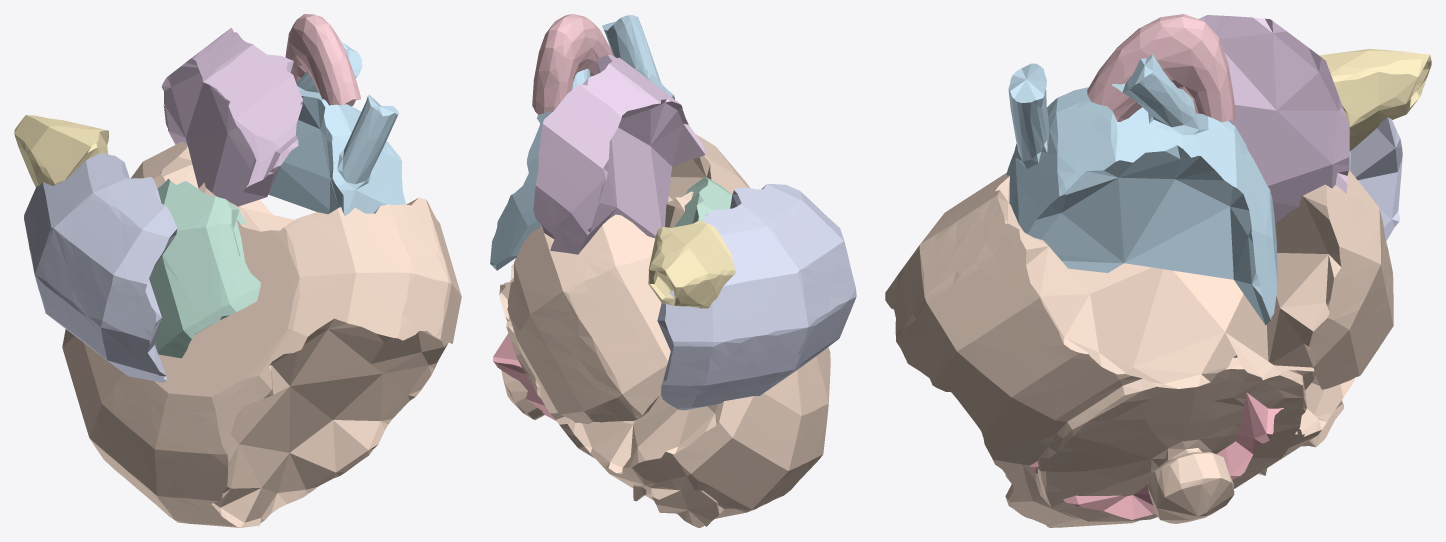
File: view_input_colored.glb
The picture shows the model from 3 angles, left to right: view 1: azimuth 30°, elevation 25°; view 2: azimuth 150°, elevation 25°; view 3: azimuth 270°, elevation 25°; orthographic projection. The views are drawn at different scales.
Parts seen in each view (by area): view 1: world; view 2: world; view 3: world.
Part boxes in pixels (box(x1,y1,x2,y2)): world: box(14, 14, 461, 527); world: box(490, 14, 856, 527); world: box(885, 14, 1431, 527).
Size of the model in its own units: 0.7623 by 0.9989 by 0.8549.
